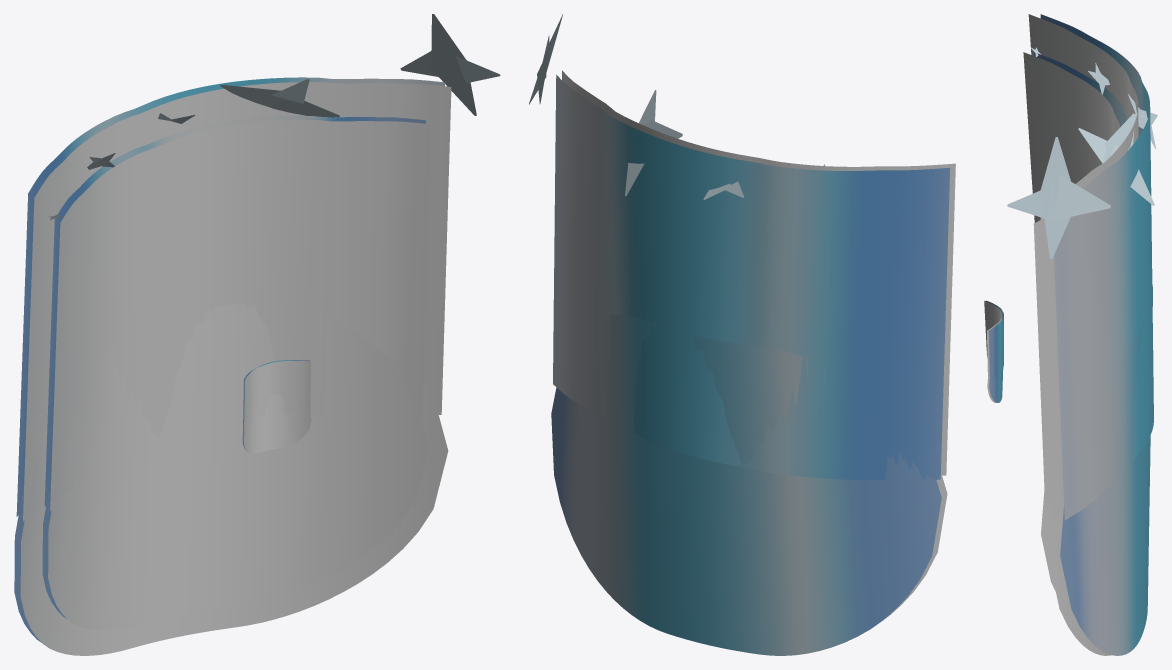
The model's file is Fx_shieldAppear2.fbx.
The picture shows the model from 3 angles, left to right: view 1: azimuth 30°, elevation 25°; view 2: azimuth 150°, elevation 25°; view 3: azimuth 270°, elevation 25°; orthographic projection. The views are drawn at different scales.
Parts seen in each view (by area): view 1: Shield; view 2: Shield; view 3: Shield.
Part boxes in pixels (x1,y1,x2,y2): Shield: [14, 14, 500, 655]; Shield: [529, 14, 955, 655]; Shield: [984, 14, 1157, 655].
Bounding box in the file's own units: 15.25 × 19.23 × 5.29.
